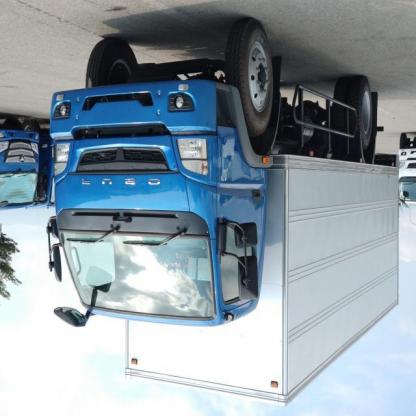truck: (54, 17, 402, 407)
